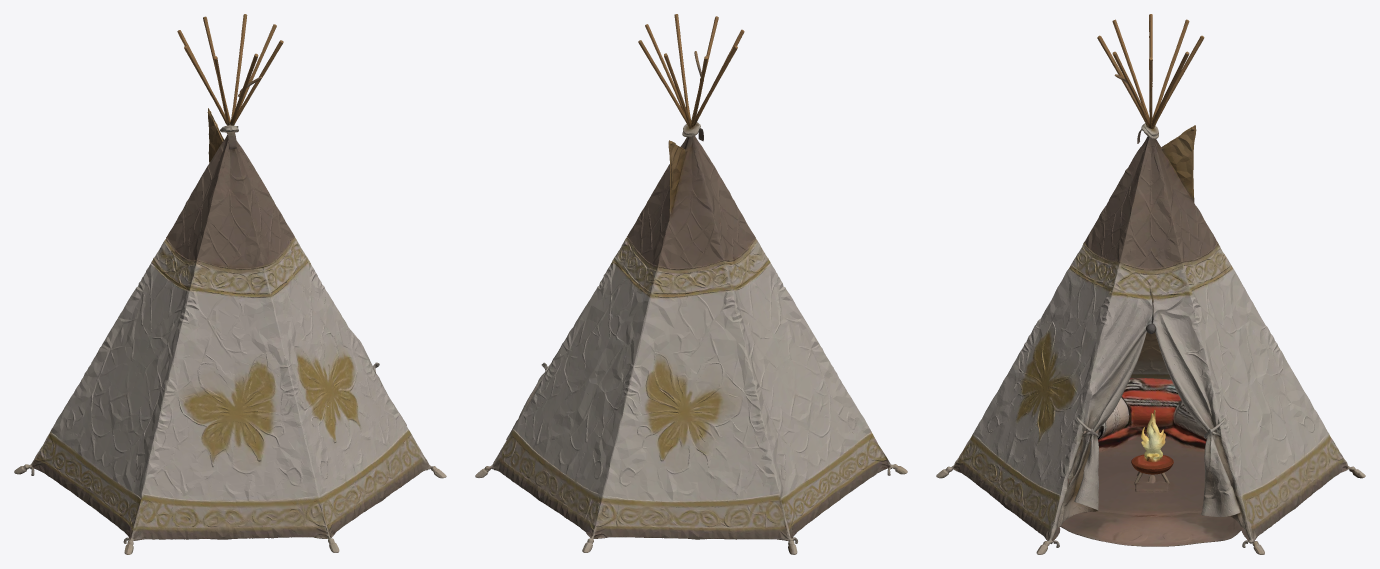
The model's file is tipi.yellowbutterfly-compressed.glb.
3 renders of one model, left to right at view 1: azimuth 30°, elevation 25°; view 2: azimuth 150°, elevation 25°; view 3: azimuth 270°, elevation 25°, orthographic.
Parts seen in each view (by area): view 1: tripo_node_c34ee706-acd6-4dc8-b86d-f25055d22140; view 2: tripo_node_c34ee706-acd6-4dc8-b86d-f25055d22140; view 3: tripo_node_c34ee706-acd6-4dc8-b86d-f25055d22140.
Part boxes in pixels (<box>): tripo_node_c34ee706-acd6-4dc8-b86d-f25055d22140: <box>14,14,446,554</box>; tripo_node_c34ee706-acd6-4dc8-b86d-f25055d22140: <box>475,14,907,554</box>; tripo_node_c34ee706-acd6-4dc8-b86d-f25055d22140: <box>936,14,1365,554</box>.
Size of the model in its own units: 0.7631 by 1 by 0.8827.
1 material, 1 textured.
